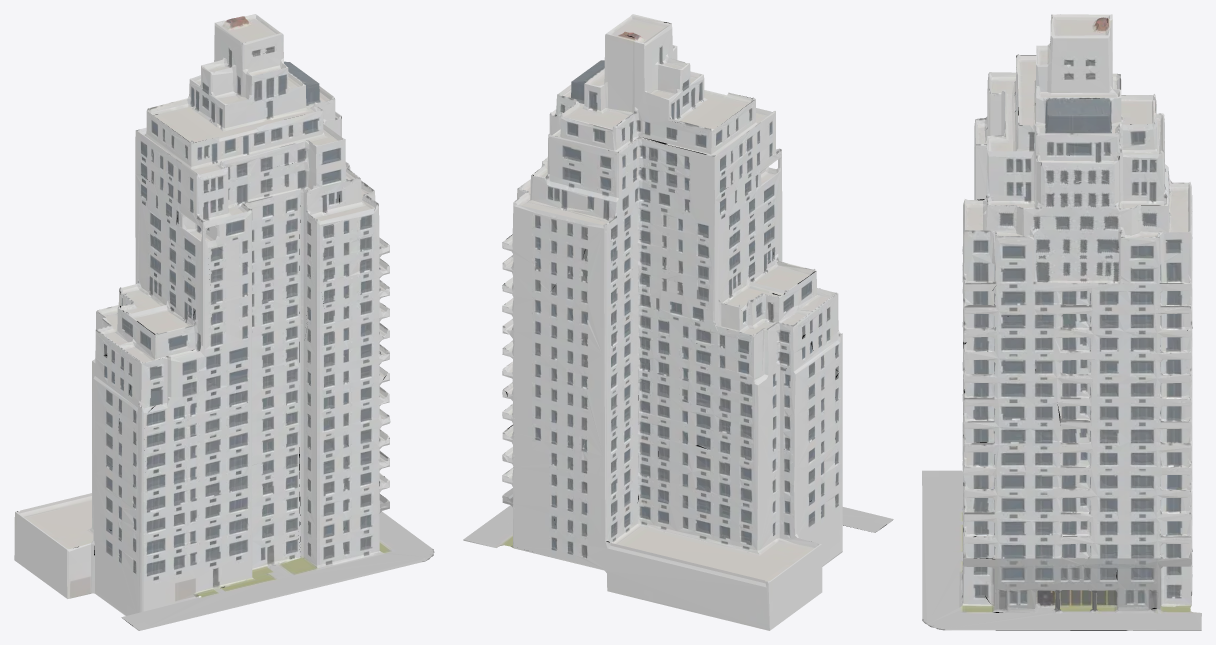
Rendered from park605.glb.
3 views of the same model, side by side, from view 1: azimuth 30°, elevation 25°; view 2: azimuth 150°, elevation 25°; view 3: azimuth 270°, elevation 25° (orthographic). The views are drawn at different scales.
Parts seen in each view (by area): view 1: Body; view 2: Body; view 3: Body.
Boxes of the visible parts, left/top/right/bottom form: Body: left=14, top=14, right=434, bottom=630; Body: left=463, top=14, right=893, bottom=630; Body: left=922, top=14, right=1201, bottom=630.
Size of the model in its own units: 37.31 by 62.02 by 27.58.
1 material, 1 textured.
